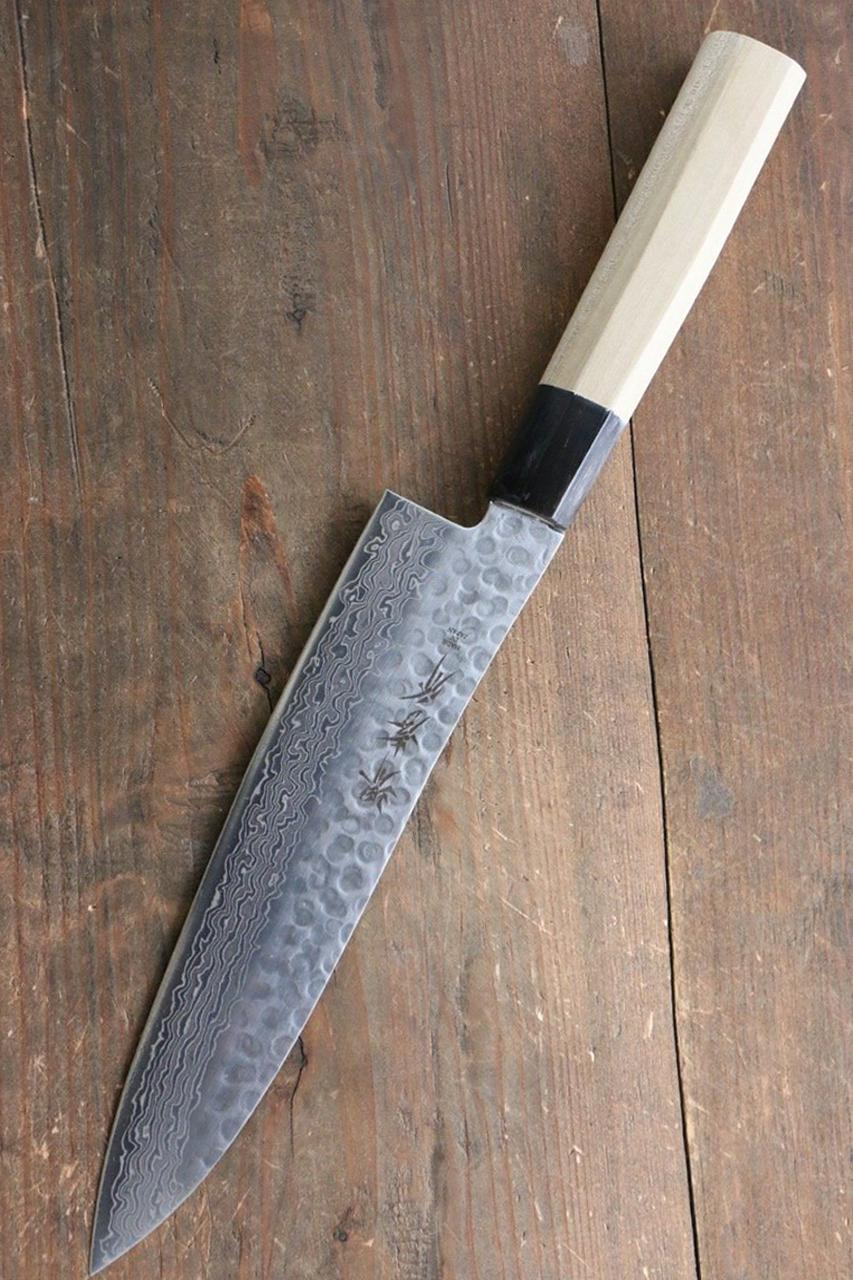knife: (91, 31, 815, 1276)
